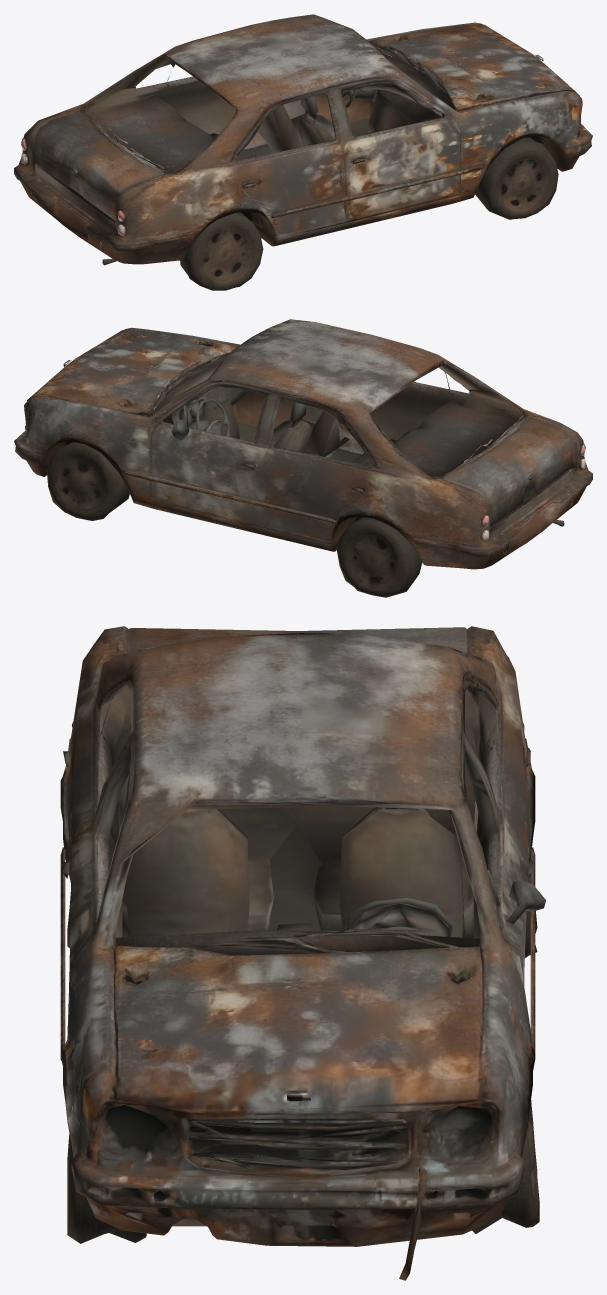
Rendered from wrecked_car.glb.
The picture shows the model from 3 angles, top to bottom: view 1: azimuth 30°, elevation 25°; view 2: azimuth 150°, elevation 25°; view 3: azimuth 270°, elevation 25°; orthographic projection. The views are drawn at different scales.
Parts seen in each view (by area): view 1: tripo_node_95837d25-b2eb-49f5-85e1-8307b5db8862; view 2: tripo_node_95837d25-b2eb-49f5-85e1-8307b5db8862; view 3: tripo_node_95837d25-b2eb-49f5-85e1-8307b5db8862.
Part boxes in pixels (x1,y1,x2,y2): tripo_node_95837d25-b2eb-49f5-85e1-8307b5db8862: [14, 14, 592, 290]; tripo_node_95837d25-b2eb-49f5-85e1-8307b5db8862: [14, 319, 592, 597]; tripo_node_95837d25-b2eb-49f5-85e1-8307b5db8862: [60, 626, 545, 1280].
Size of the model in its own units: 0.998 by 0.3379 by 0.4316.
Materials: 1 (1 with a texture image).
